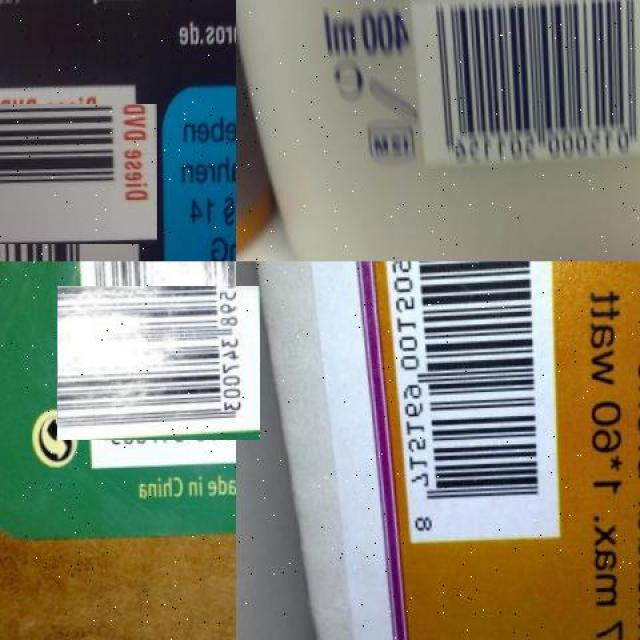Barcode: (377, 261, 559, 548), (410, 0, 640, 169), (69, 273, 248, 452), (0, 95, 148, 252)
